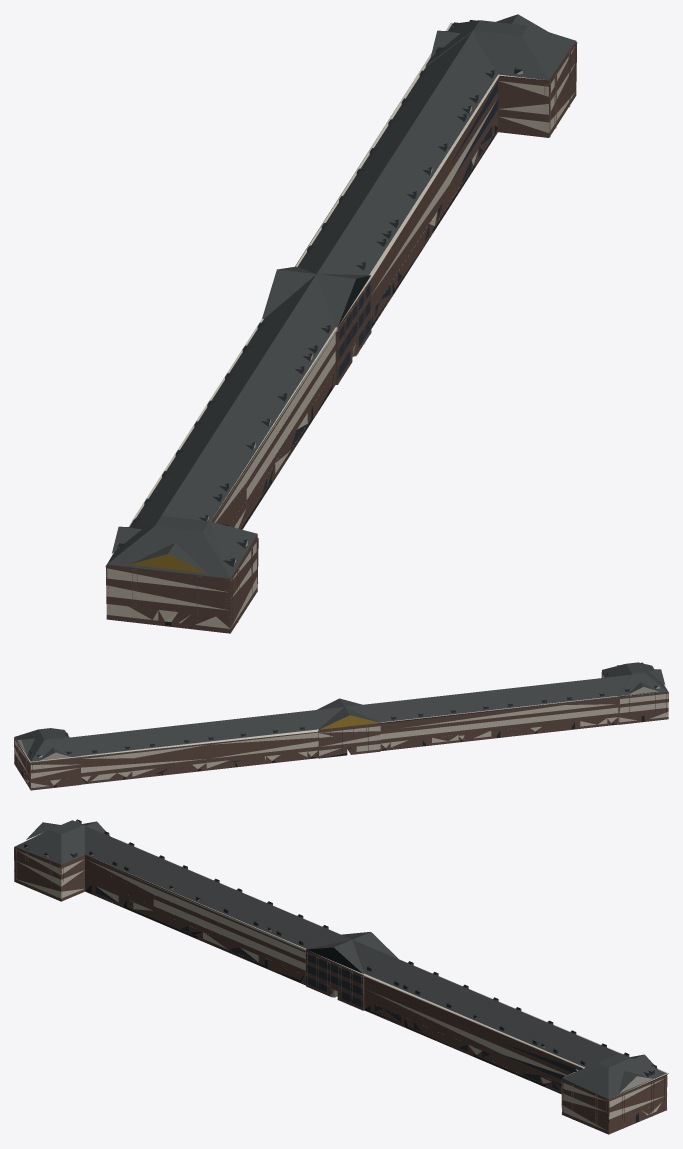
The model's file is oranje-nassau-kazerne.lod2.glb.
3 views of the same model, one above another, from view 1: azimuth 30°, elevation 25°; view 2: azimuth 150°, elevation 25°; view 3: azimuth 270°, elevation 25° (orthographic). The views are drawn at different scales.
Visible parts, largest first — view 1: lod2; view 2: lod2; view 3: lod2.
Part boxes in pixels (<box>): lod2: <box>105,14,577,633</box>; lod2: <box>14,662,668,790</box>; lod2: <box>14,819,668,1134</box>.
Size of the model in its own units: 218 by 19.1 by 217.
